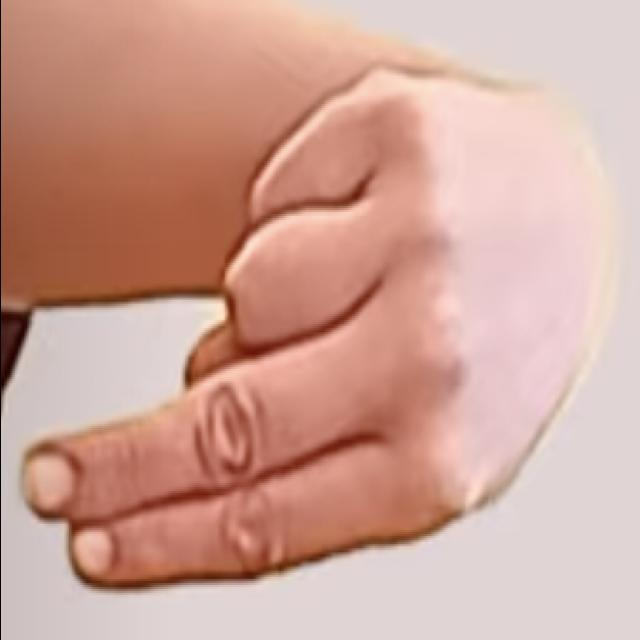N: (14, 65, 618, 600)
